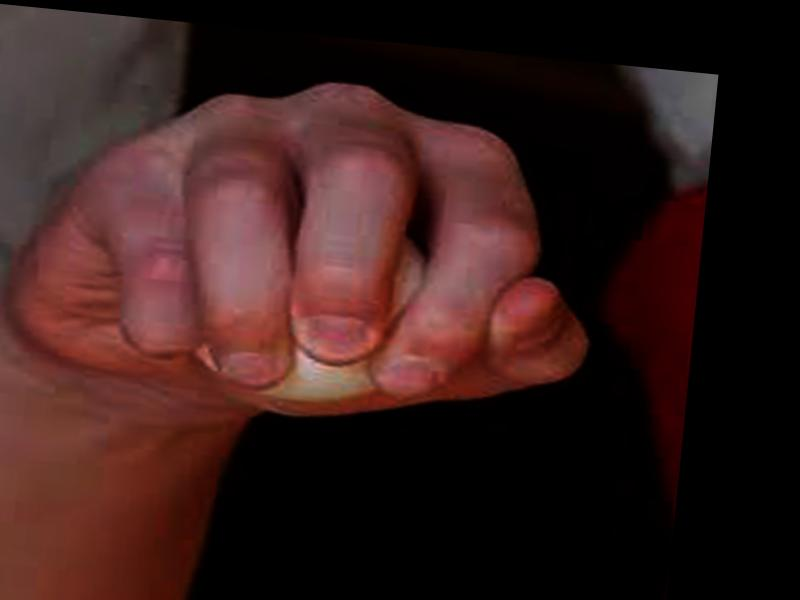Eggs: (191, 214, 456, 416)
